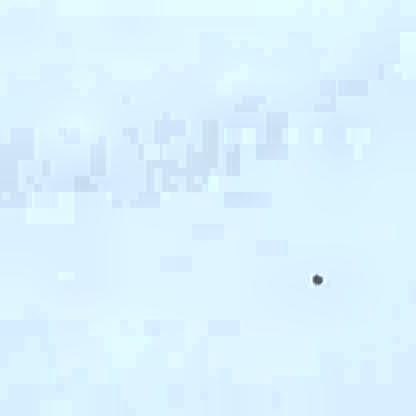golfball: (308, 268, 319, 281)
